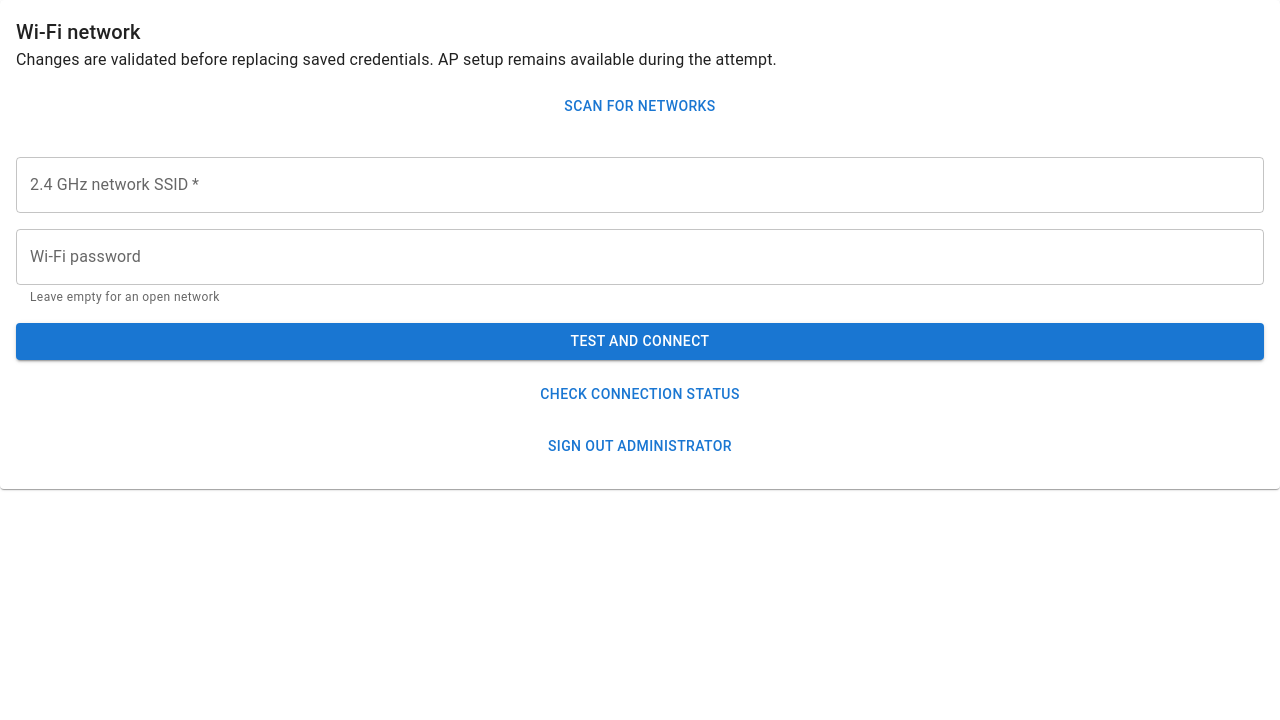
it: keeps manual SSID entry available after a failed scan
Click the button "Scan for networks" at (640, 106), box [16,88,1264,124]
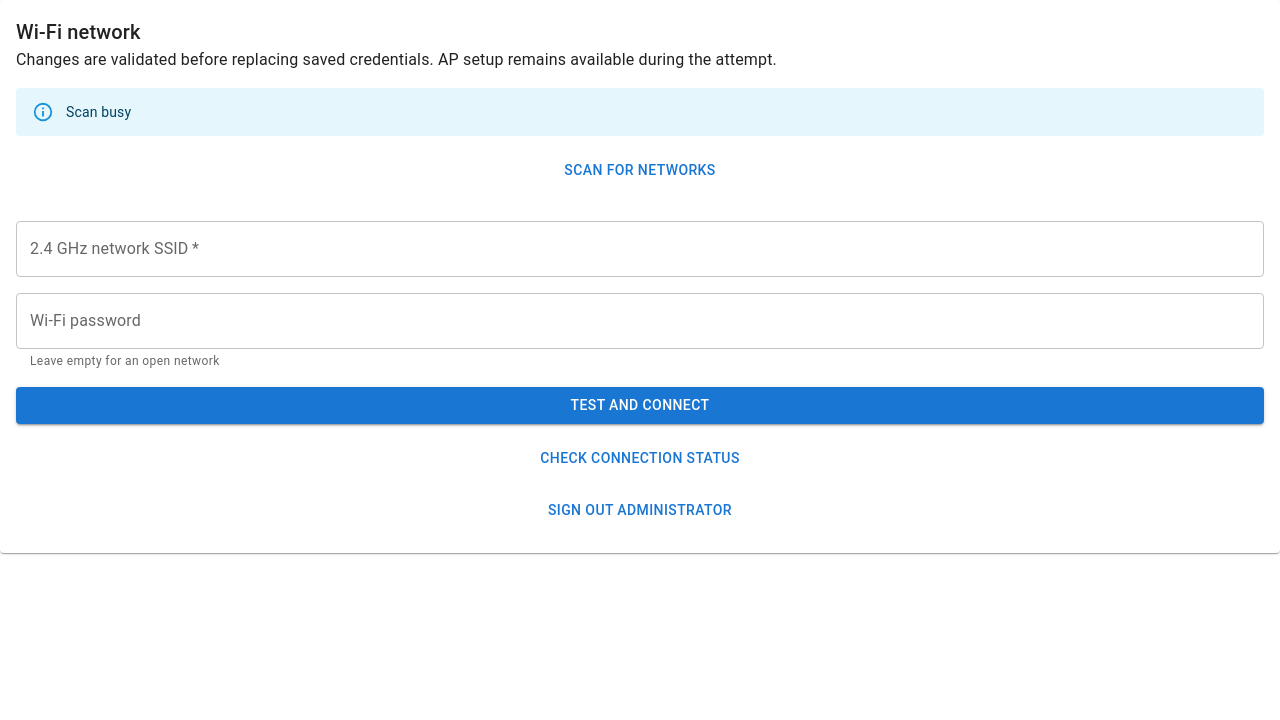
Check: the field labelled "2.4 GHz network SSID *" is enabled, box [16,220,1264,276]
Check: the text "Scan busy" is shown, box [66,104,131,120]
